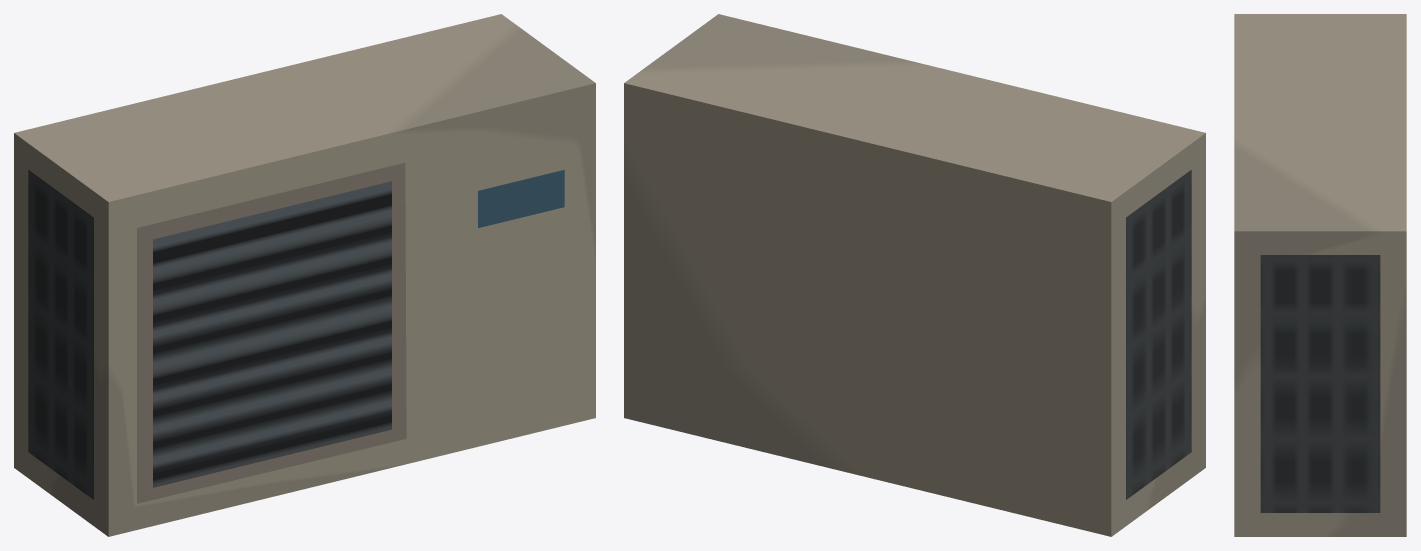
The model's file is SM_Prop_Airconditioner_Optimized_01.glb.
3 renders of one model, left to right at view 1: azimuth 30°, elevation 25°; view 2: azimuth 150°, elevation 25°; view 3: azimuth 270°, elevation 25°, orthographic. The views are drawn at different scales.
Parts seen in each view (by area): view 1: SM_Prop_Airconditioner_Optimized_01; view 2: SM_Prop_Airconditioner_Optimized_01; view 3: SM_Prop_Airconditioner_Optimized_01.
Boxes of the visible parts, x1=… form: SM_Prop_Airconditioner_Optimized_01: x1=14, y1=14, x2=595, y2=536; SM_Prop_Airconditioner_Optimized_01: x1=624, y1=14, x2=1205, y2=536; SM_Prop_Airconditioner_Optimized_01: x1=1234, y1=14, x2=1406, y2=536.
Size of the model in its own units: 1.07 by 0.7052 by 0.3607.
1 material, 1 textured.
